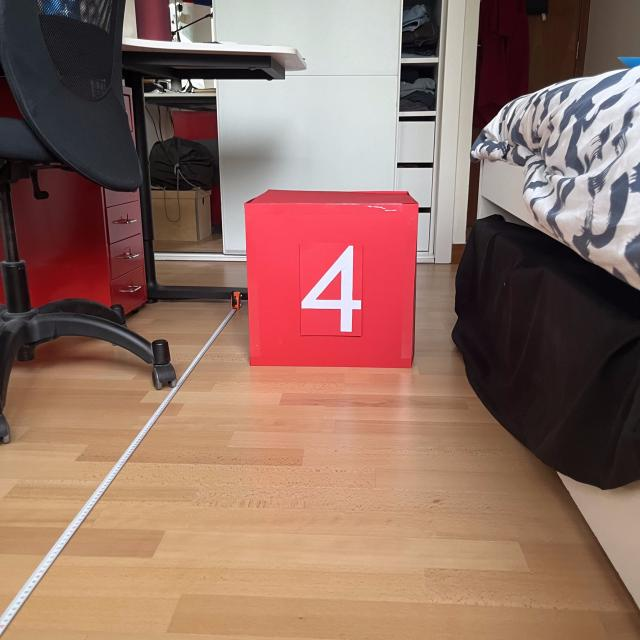box: (239, 185, 422, 372)
